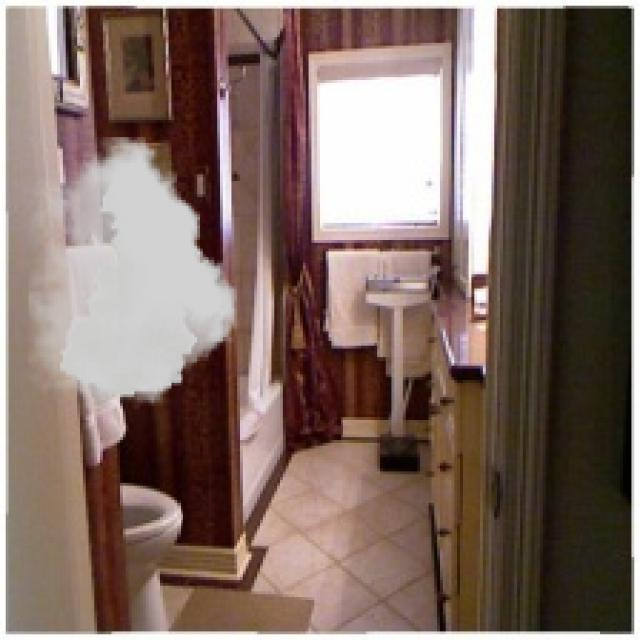smoke: (29, 137, 237, 409)
